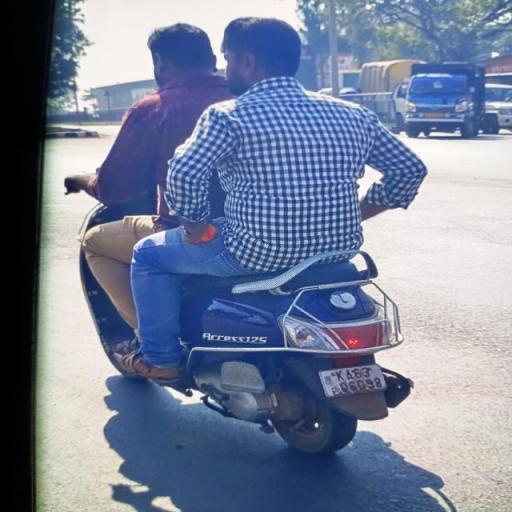bike: (53, 14, 435, 459)
numberplate: (316, 354, 390, 402)
withouthelmet: (221, 20, 301, 86), (152, 25, 211, 84)
